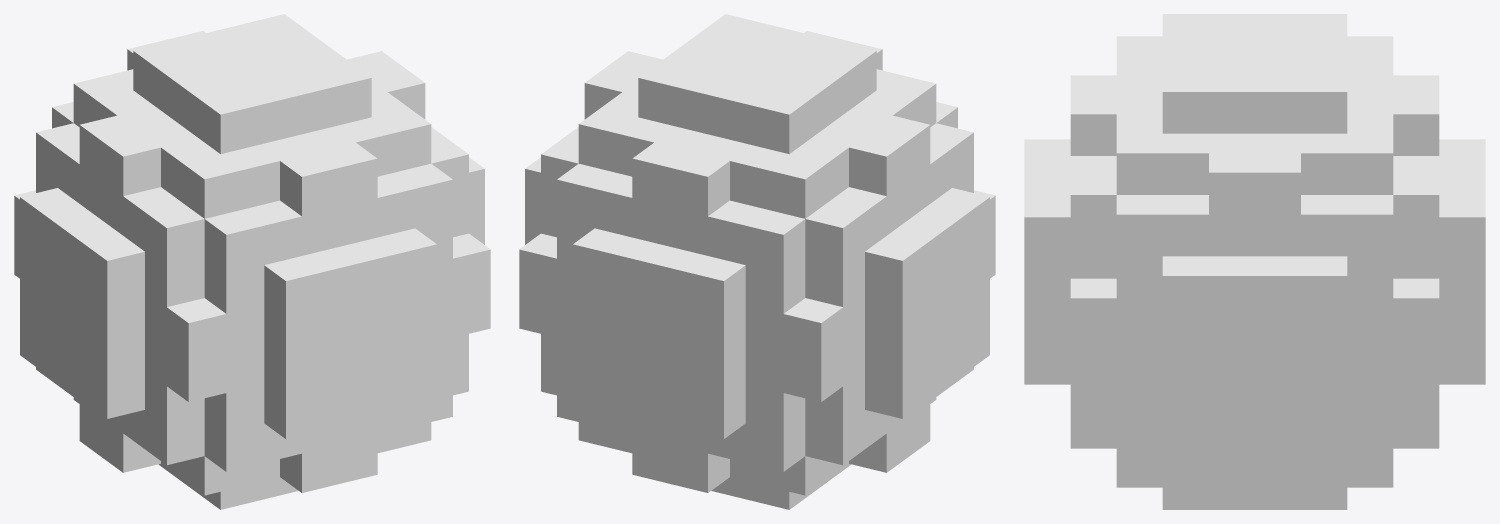
Rendered from switch_yes.obj.
3 renders of one model, left to right at view 1: azimuth 30°, elevation 25°; view 2: azimuth 150°, elevation 25°; view 3: azimuth 270°, elevation 25°, orthographic. The views are drawn at different scales.
Size of the model in its own units: 1 by 1 by 1.
1 material, 1 textured.
